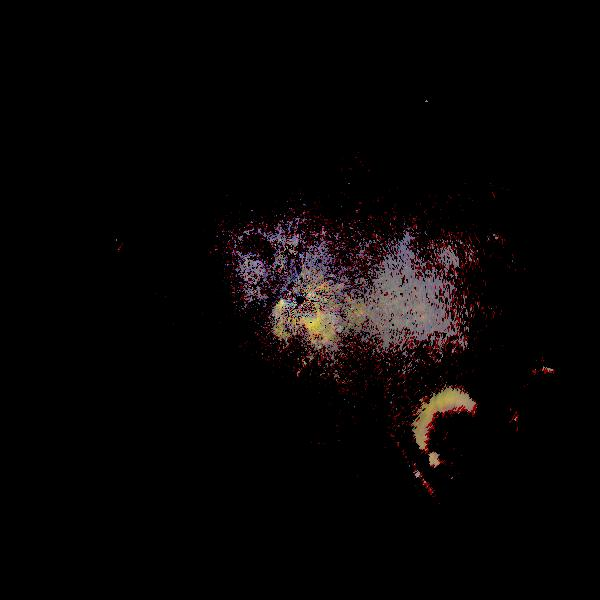roost: (402, 373, 528, 499), (495, 355, 597, 457)
